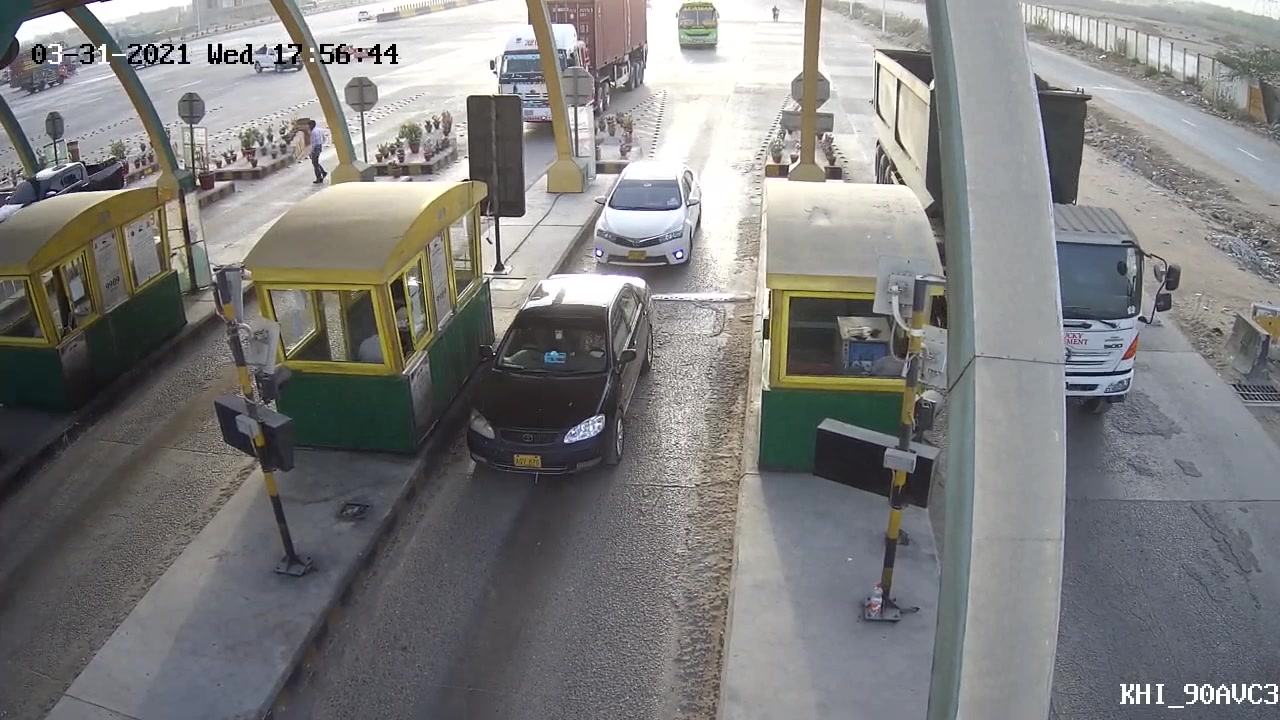F1: (459, 270, 658, 483), (587, 155, 710, 269)
